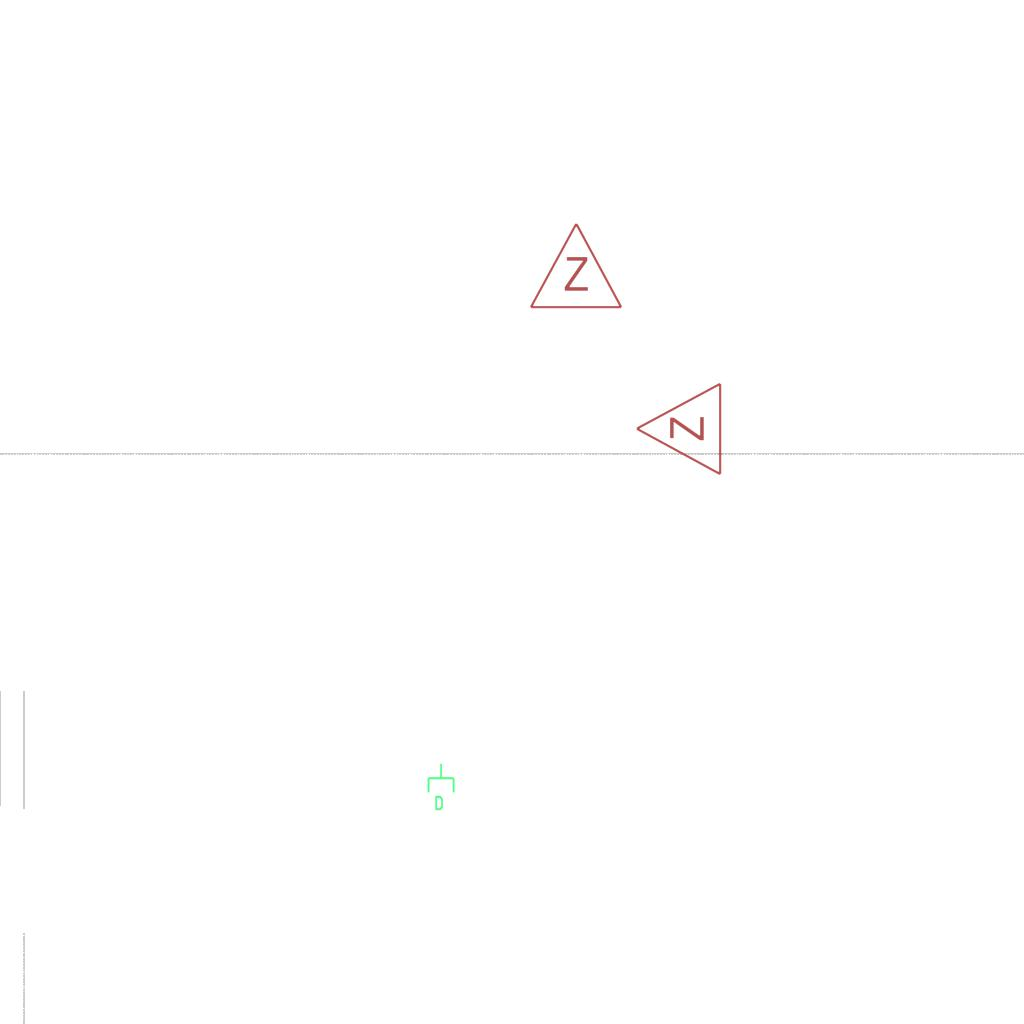Datenanschluss_einfach: (425, 762, 459, 812)
Zimmersignalleuchte: (629, 381, 729, 479), (526, 216, 624, 316)
